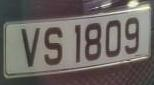0: (103, 17, 124, 61)
1: (71, 20, 86, 68)
8: (83, 19, 104, 65)
9: (122, 15, 142, 57)
S: (41, 24, 66, 68)
V: (17, 24, 45, 72)
